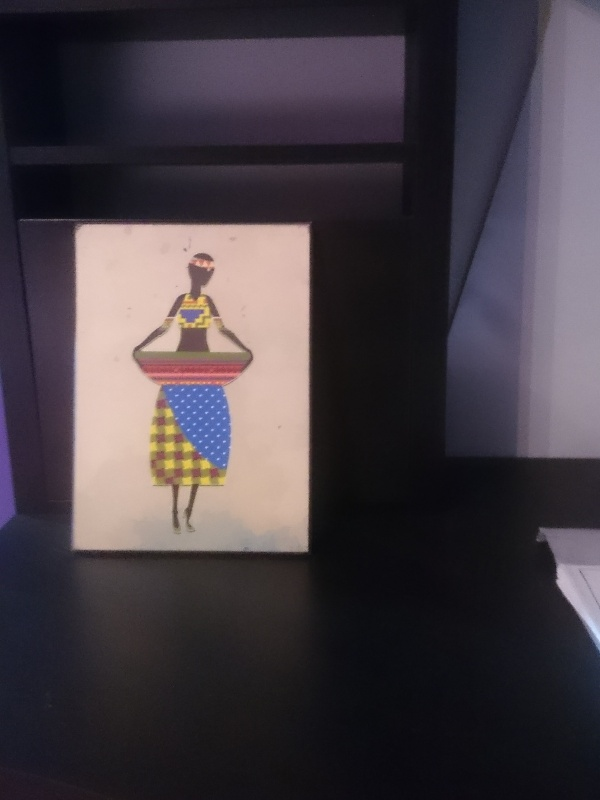my image: (73, 221, 309, 554)
